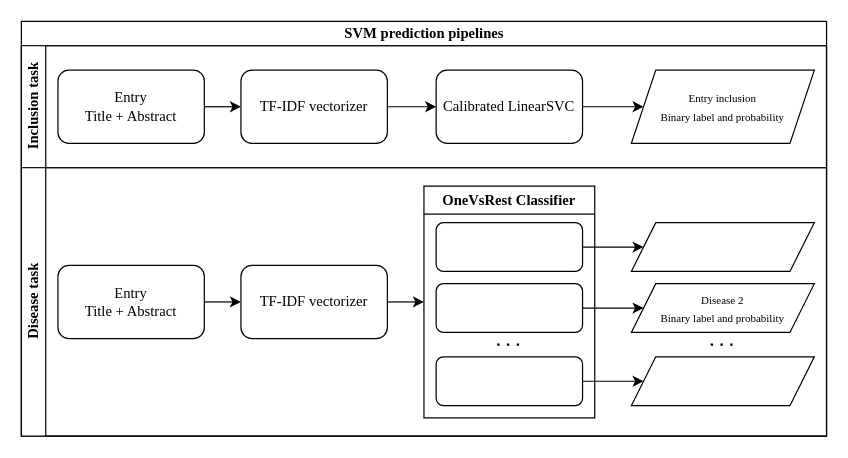
Image size: 848x458. Some labels were removed from this diagram. The centre of each missing label's shape, as x and y in pixels:
Disease 1 Binary label and probability: [722,246]
Disease 1 calibrated LinearSVC: [509,246]
Disease 19 Binary label and probability: [722,381]
Disease 19 calibrated LinearSVC: [509,381]
Disease 2 calibrated LinearSVC: [509,307]
